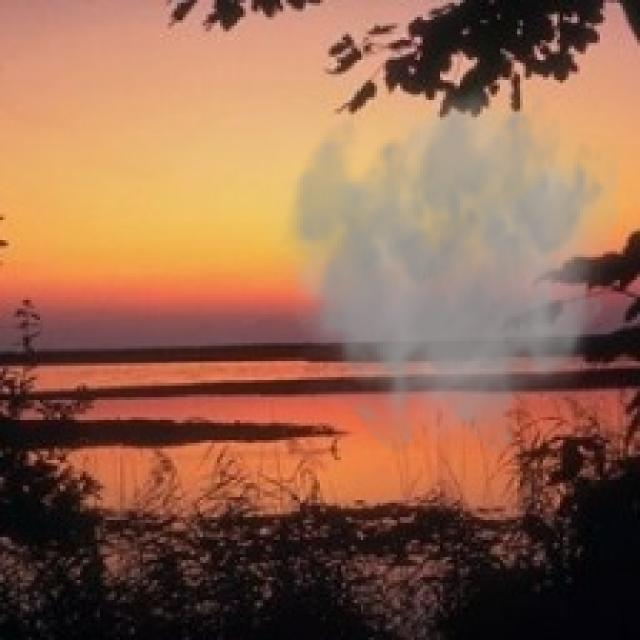Smoke: (257, 80, 617, 460)
